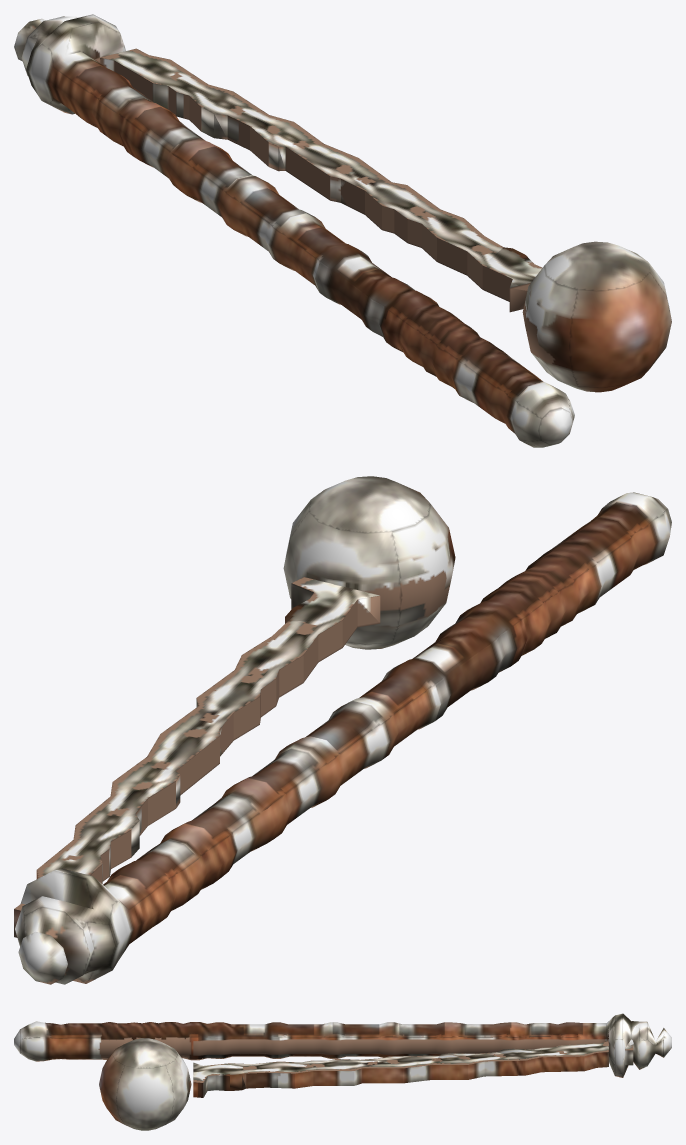
The model's file is item_mm9_10074.glb.
3 renders of one model, top to bottom at view 1: azimuth 30°, elevation 25°; view 2: azimuth 150°, elevation 25°; view 3: azimuth 270°, elevation 25°, orthographic. The views are drawn at different scales.
Visible parts, largest first — view 1: d10074; view 2: d10074; view 3: d10074.
Part boxes in pixels (left/top/right/bottom): d10074: left=14, top=14, right=671, bottom=447; d10074: left=14, top=476, right=671, bottom=984; d10074: left=14, top=1013, right=671, bottom=1130.
Size of the model in its own units: 37.49 by 20.53 by 146.
Materials: 1 (1 with a texture image).
